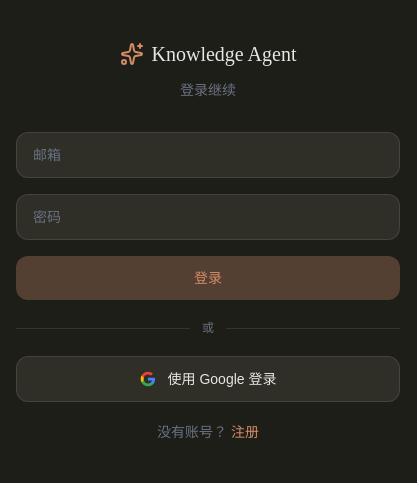
LoginPage › shows a signup confirmation message after successful registration
Step 1. Click the button "注册" → (245, 432), box [231, 422, 259, 442]
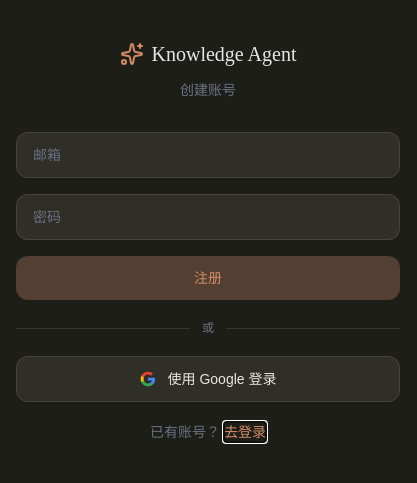
Step 2. Type "demo@example.com" into the field with placeholder "邮箱" → (208, 155), box [16, 132, 400, 178]
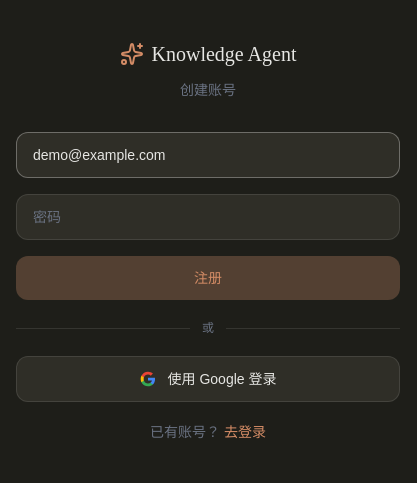
Step 3. Type "secret123" into the password field with placeholder "密码" → (208, 217), box [16, 194, 400, 240]
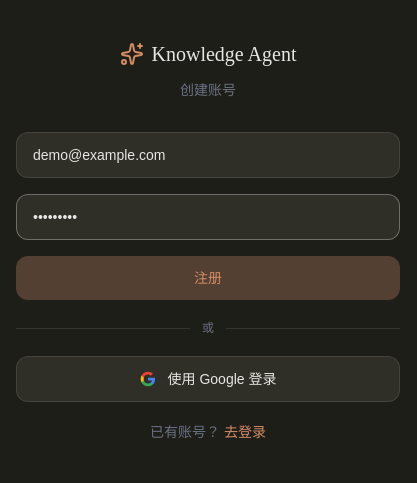
Step 4. Click the button "注册" → (208, 278), box [16, 256, 400, 300]
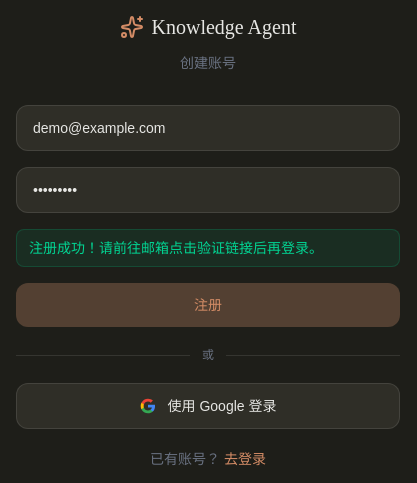
Now the text "注册成功！请前往邮箱点击验证链接后再登录。" is shown, box [16, 229, 400, 267]
